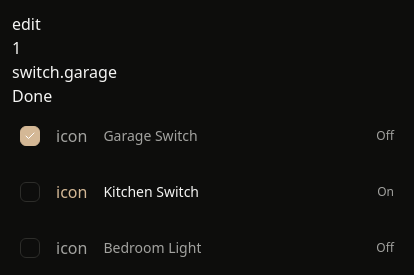
Device Selection Flow › clicking devices in edit mode › should exit edit mode when last device is deselected
expect the text with test id "mode" reads "edit": met, box left=12, top=13, right=41, bottom=35
expect the text with test id "count" reads "1": met, box left=12, top=37, right=21, bottom=59
Click garage switch to deselect (last item)
Click the button "icon Garage Switch Off".
click(72, 136)  # box left=12, top=108, right=402, bottom=164
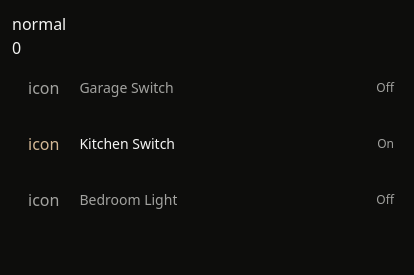
expect the text with test id "mode" reads "normal": met, box left=12, top=13, right=66, bottom=35
expect the text with test id "count" reads "0": met, box left=12, top=37, right=21, bottom=59
